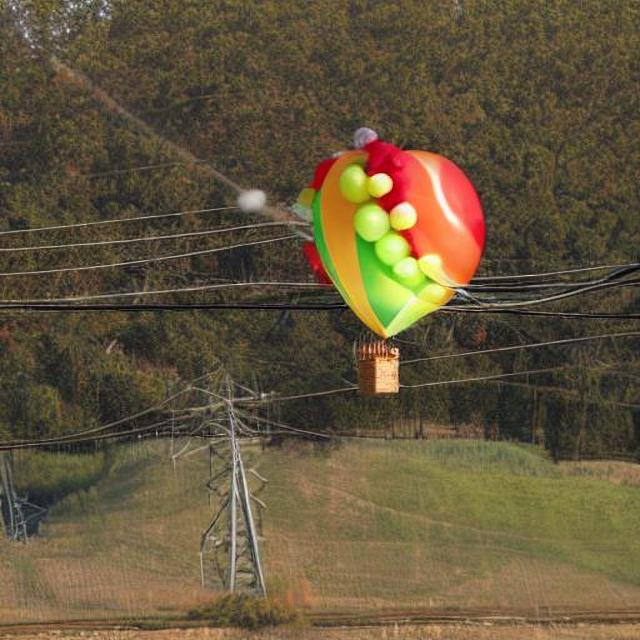balloon: (293, 128, 492, 336)
